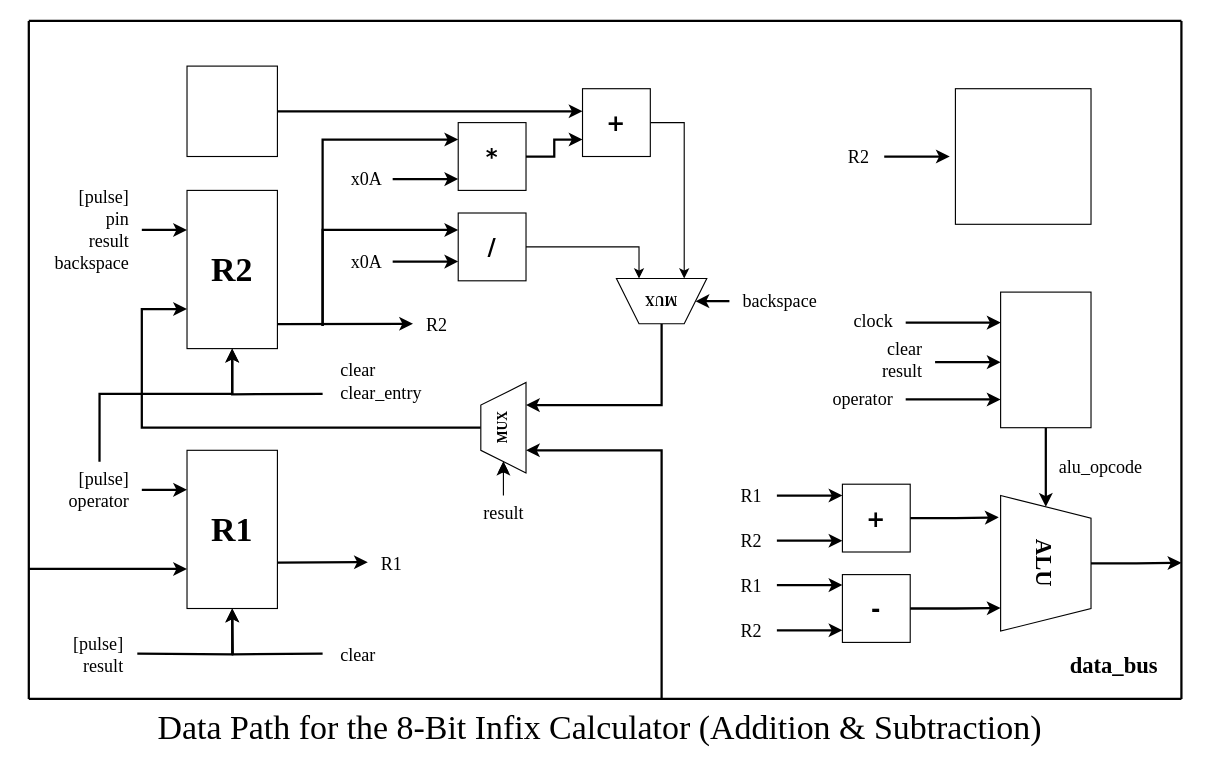
Image size: 1210x774. Some labels were removed from this diagram. The shapes that lost their labels are listed below. From the top down, each one's centre as x and y in pixels, then its label:
the point at 231,111: PIN
the point at 1022,156: DISPLAY
the point at 1045,359: STATE
